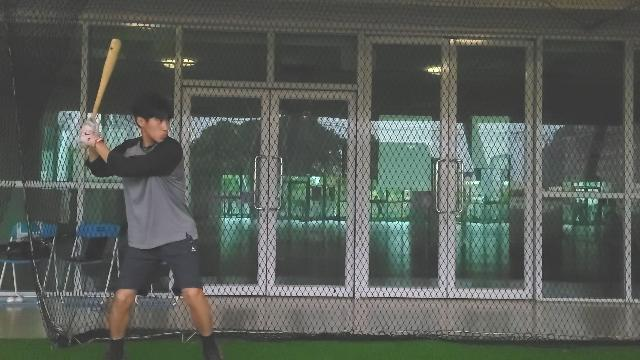baseball bat: (88, 37, 124, 123)
